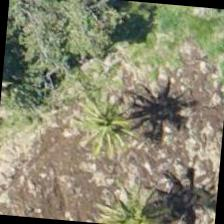Kelapa_Sawit: (66, 71, 164, 169), (93, 167, 189, 223)
